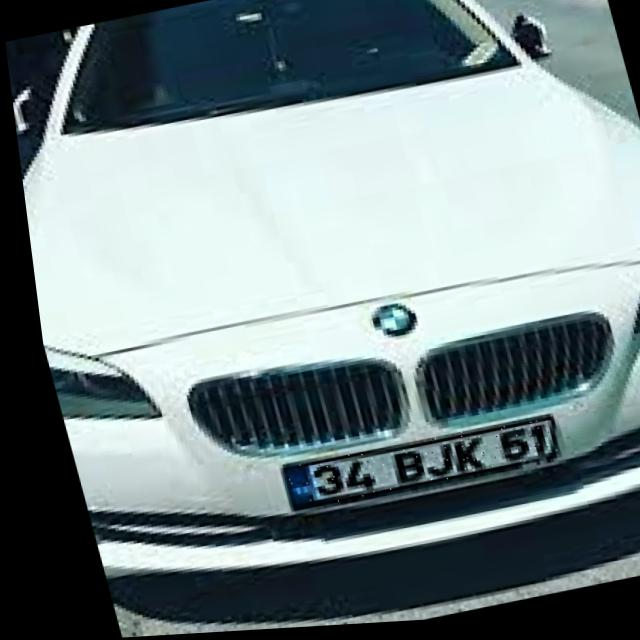license_plate: (265, 420, 553, 515)
